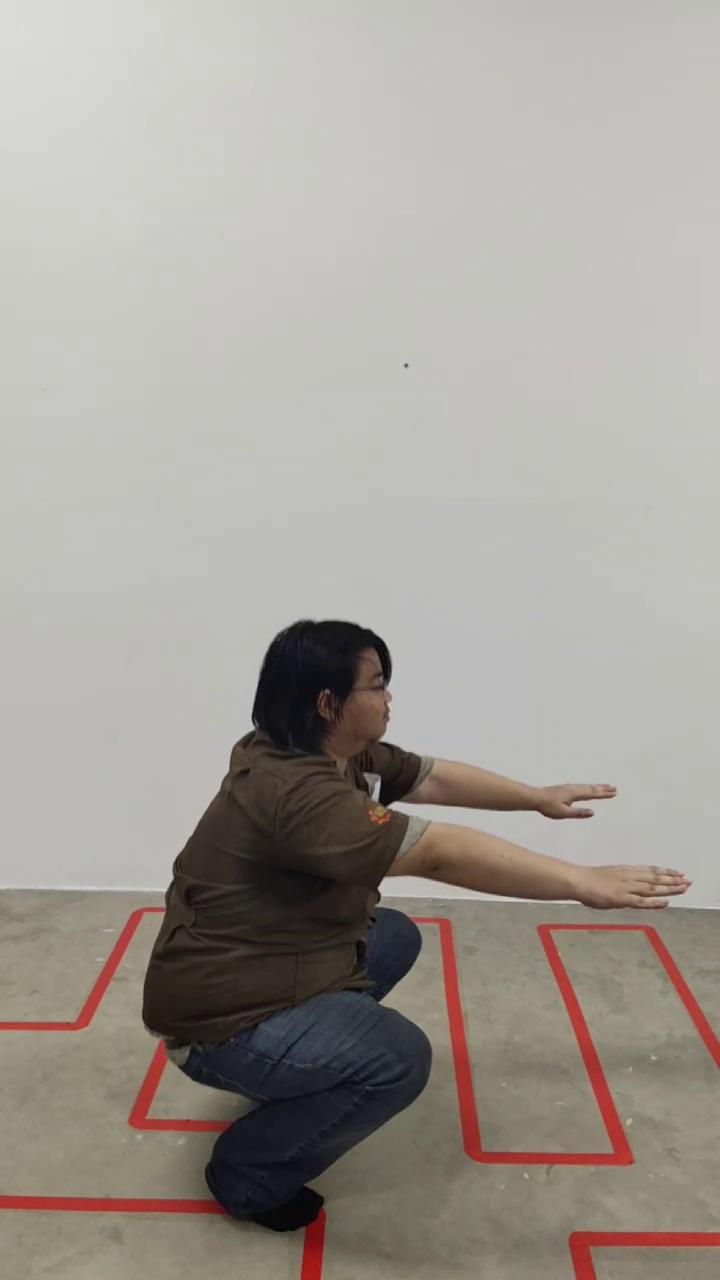squat down: (143, 621, 691, 1233)
